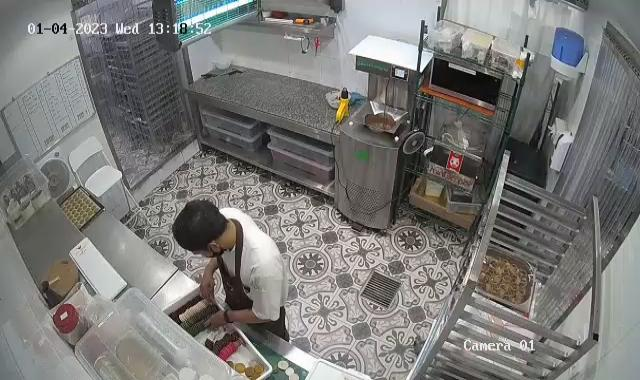no_hairnet: (168, 197, 229, 252)
